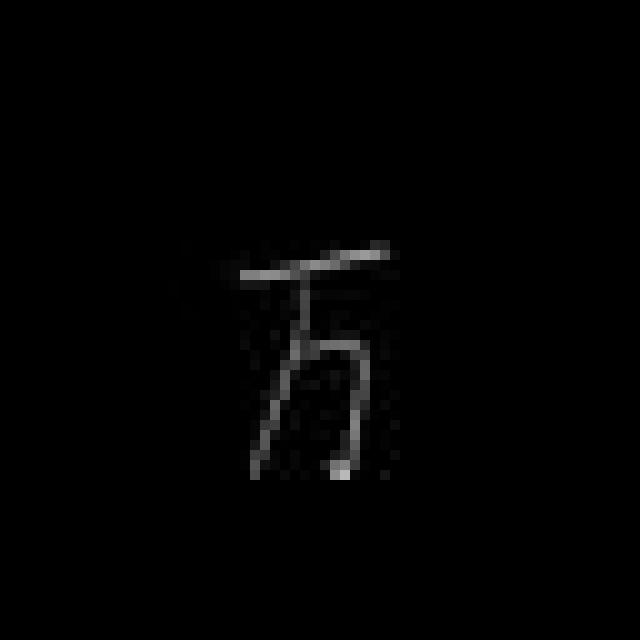10000 -a ten thousand-: (218, 222, 406, 505)
